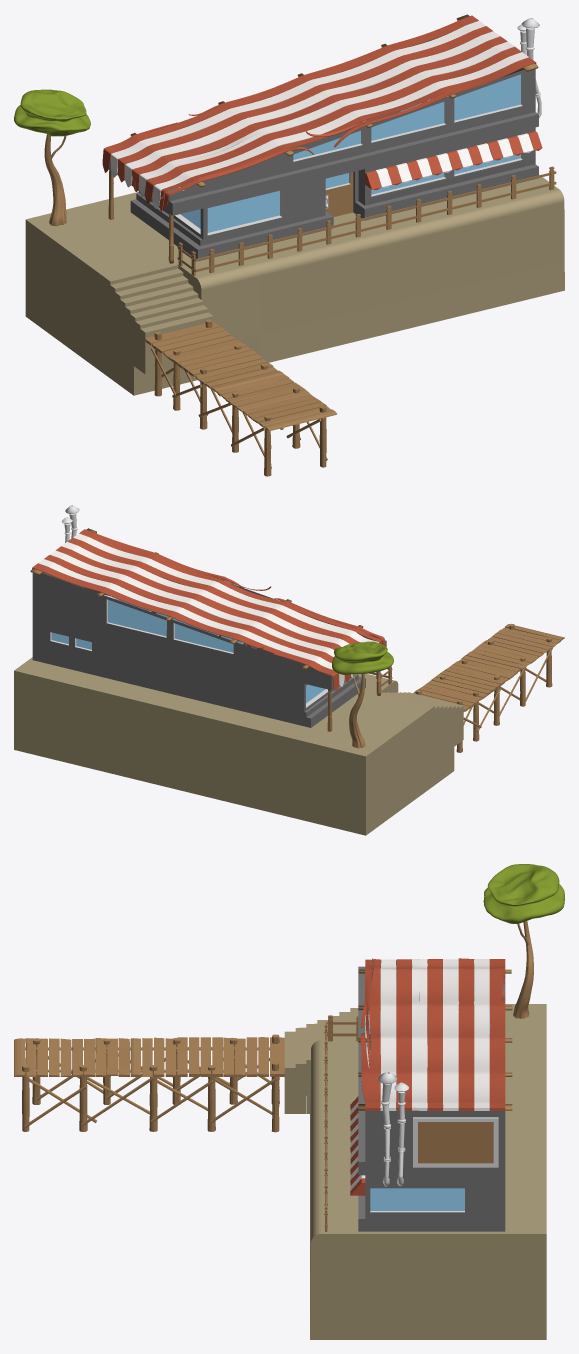
File: playa.fbx
3 views of the same model, one above another, from view 1: azimuth 30°, elevation 25°; view 2: azimuth 150°, elevation 25°; view 3: azimuth 270°, elevation 25° (orthographic). The views are drawn at different scales.
Parts seen in each view (by area): view 1: bar, ground, pier, tree; view 2: ground, bar, pier, tree; view 3: ground, bar, pier, tree.
Part boxes in pixels (<box>): bar: <box>102,14,556,275</box>; ground: <box>25,174,564,395</box>; pier: <box>145,319,337,476</box>; tree: <box>14,89,90,226</box>; ground: <box>14,657,463,835</box>; bar: <box>30,505,392,731</box>; pier: <box>413,623,564,752</box>; tree: <box>332,641,393,748</box>; ground: <box>284,1004,546,1339</box>; bar: <box>324,958,512,1231</box>; pier: <box>14,1034,284,1132</box>; tree: <box>483,864,564,1018</box>.
Bounding box in the file's own units: 381 × 193 × 360.
